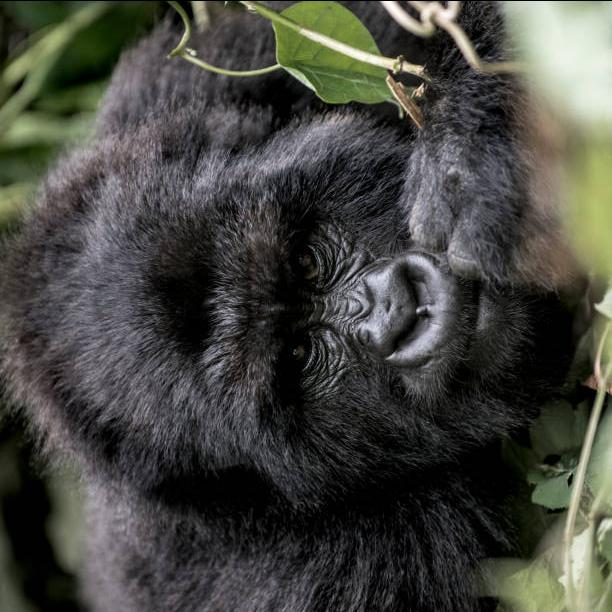goriile_montagne: (10, 0, 548, 612)
